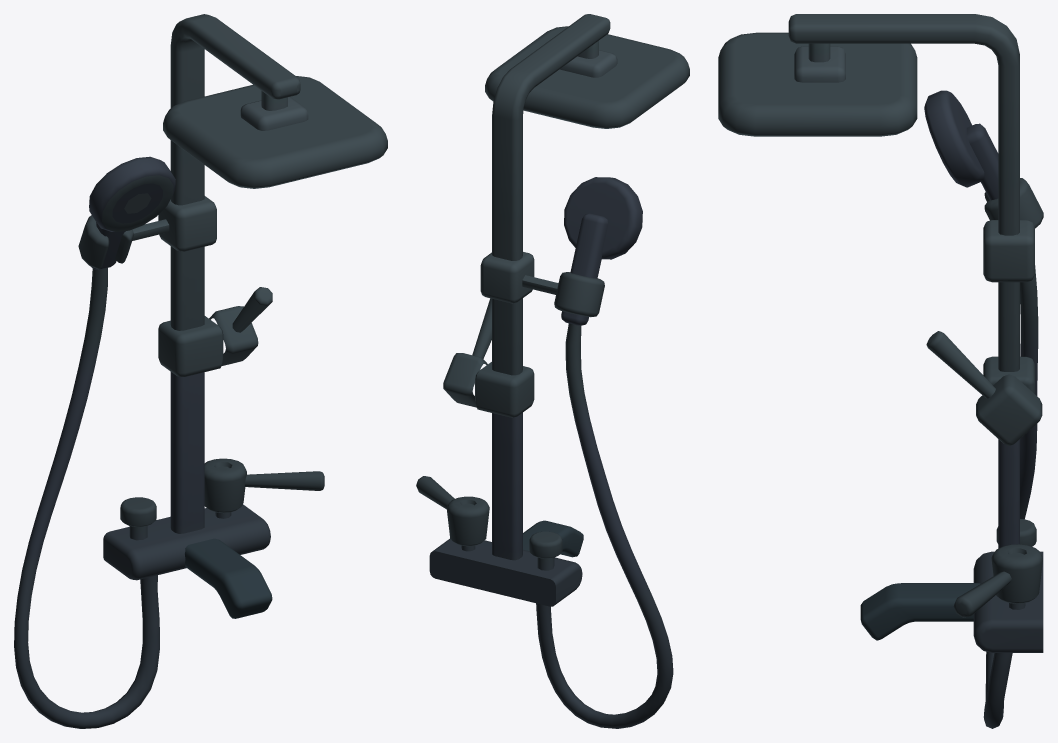
File: Mixer_07.glb
3 views of the same model, side by side, from view 1: azimuth 30°, elevation 25°; view 2: azimuth 150°, elevation 25°; view 3: azimuth 270°, elevation 25° (orthographic). The views are drawn at different scales.
Visible parts, largest first — view 1: Mixer_07; view 2: Mixer_07; view 3: Mixer_07.
Boxes of the visible parts, x1,y1,x2,y2 form: Mixer_07: (14,14,387,728); Mixer_07: (416,14,689,728); Mixer_07: (718,14,1043,728).
Bounding box in the file's own units: 0.6527 × 1.46 × 0.574.
Materials: 1 (1 with a texture image).
